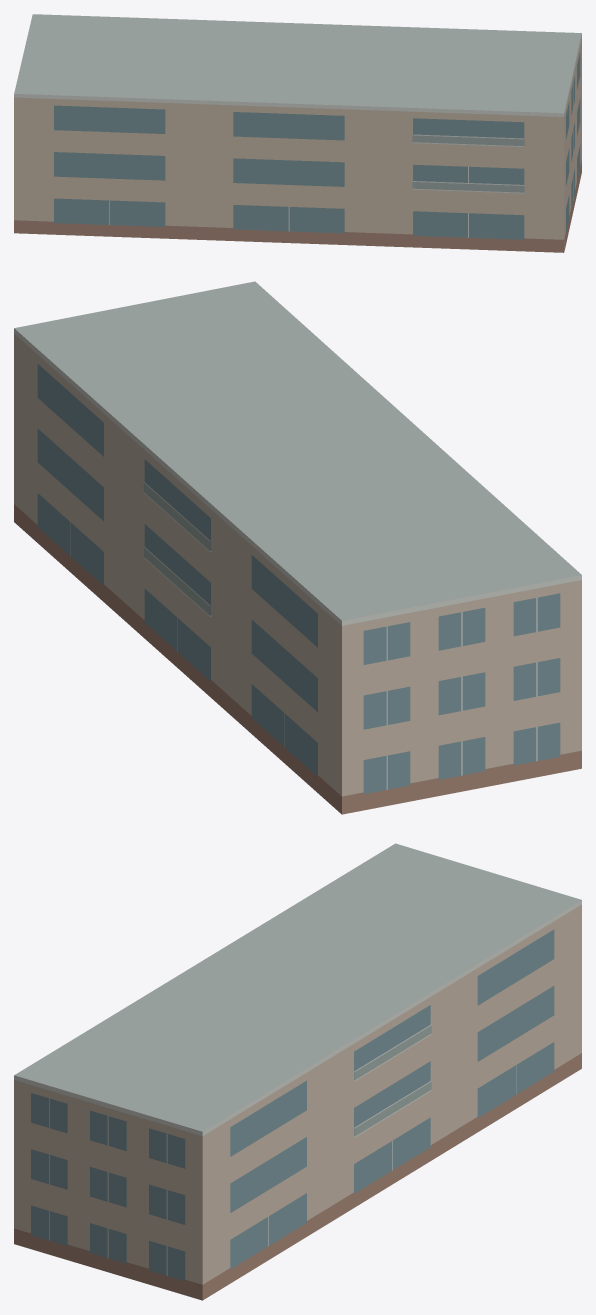
Rendered from survey-upis-32855716.glb.
3 renders of one model, top to bottom at view 1: azimuth 30°, elevation 25°; view 2: azimuth 150°, elevation 25°; view 3: azimuth 270°, elevation 25°, orthographic. The views are drawn at different scales.
Visible parts, largest first — view 1: survey-upis-32855716.tmp; view 2: survey-upis-32855716.tmp; view 3: survey-upis-32855716.tmp.
Part boxes in pixels (<box>): survey-upis-32855716.tmp: <box>14,14,581,252</box>; survey-upis-32855716.tmp: <box>14,281,581,814</box>; survey-upis-32855716.tmp: <box>14,843,581,1300</box>.
Bounding box in the file's own units: 33.53 × 9.15 × 27.9.
